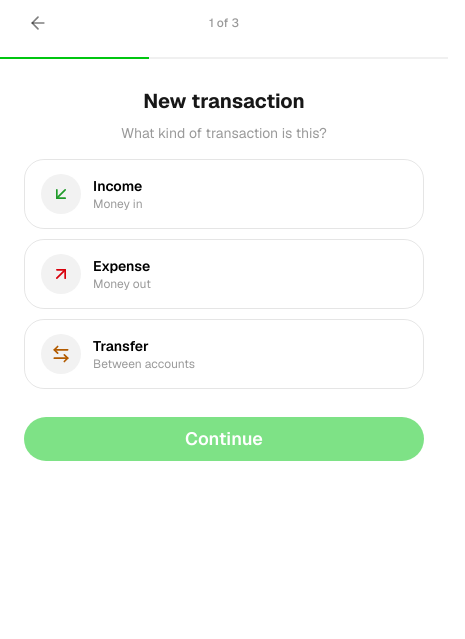
it: AddTransactionWizard — step 2 (details) › shows the Transfer to field only for transfer type
Step 1. Click the text "Transfer" → (121, 346), box [93,337,149,355]
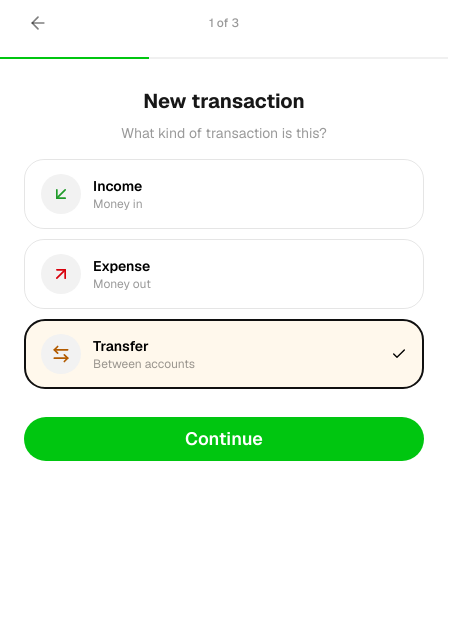
Step 2. Click the button "Continue" → (224, 439), box [24,417,424,461]
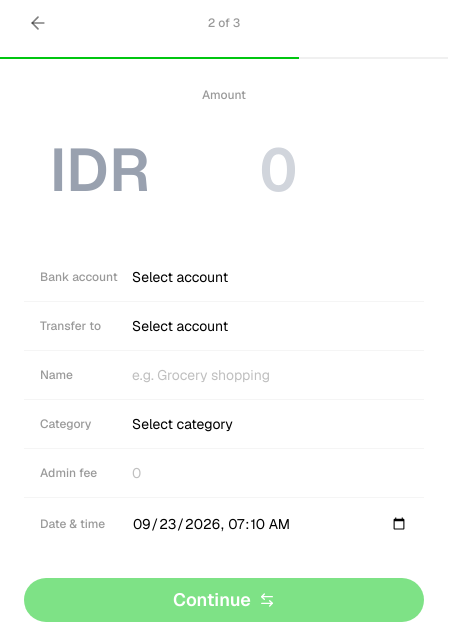
Now the text "Transfer to" is shown, box [40,318,101,334]
